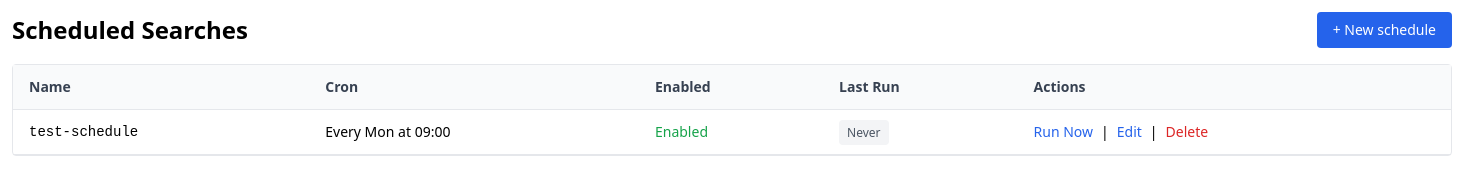
Scenario: SchedulesPage › deletes schedule after confirmation
Check: the text "test-schedule" is shown, box [13,110,309,154]
Step 1. Click the button "Delete" → (1187, 132), box [1166,122,1208,142]
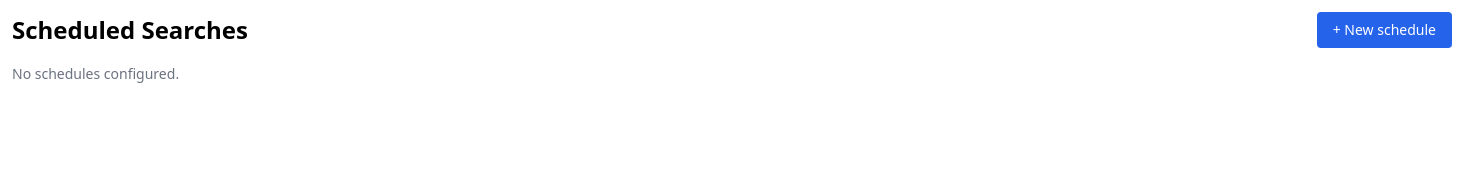
Check: the text "No schedules configured." is shown, box [12,64,179,83]
